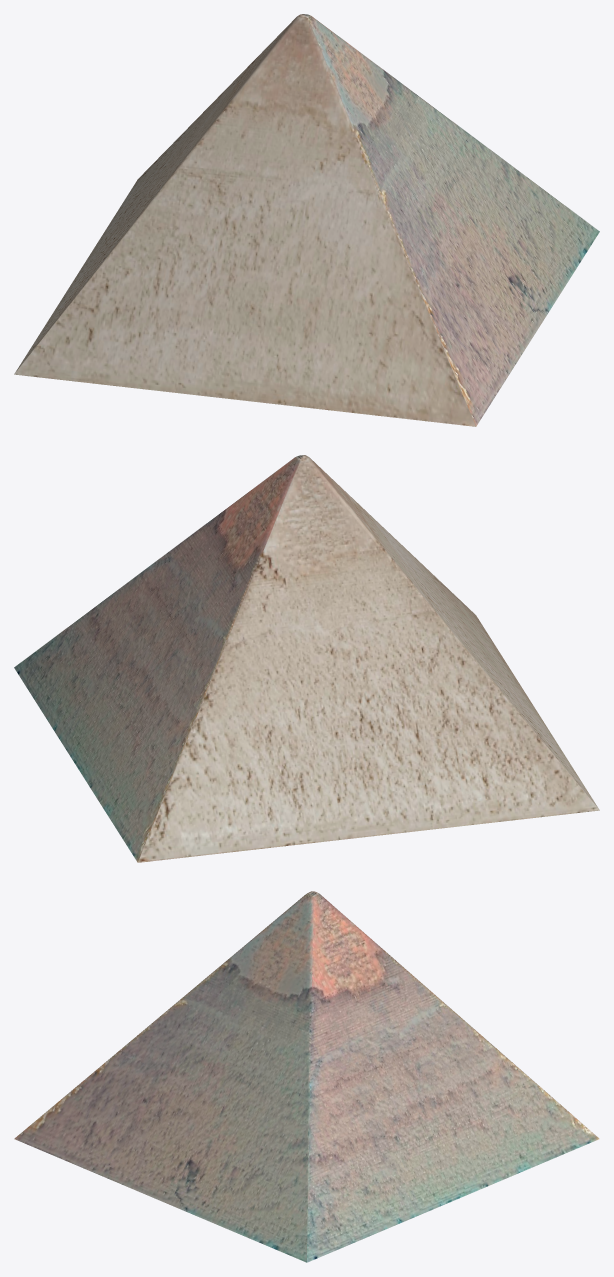
File: 20250702_pyramyds_for_mb_pyramid2.glb
The picture shows the model from 3 angles, top to bottom: view 1: azimuth 30°, elevation 25°; view 2: azimuth 150°, elevation 25°; view 3: azimuth 270°, elevation 25°; orthographic projection. The views are drawn at different scales.
Parts seen in each view (by area): view 1: Model; view 2: Model; view 3: Model.
Part boxes in pixels (x1,y1,x2,y2): Model: (14,14,599,426); Model: (14,455,599,862); Model: (14,891,599,1262).
Size of the model in its own units: 6 by 2.79 by 6.
1 material, 1 textured.
